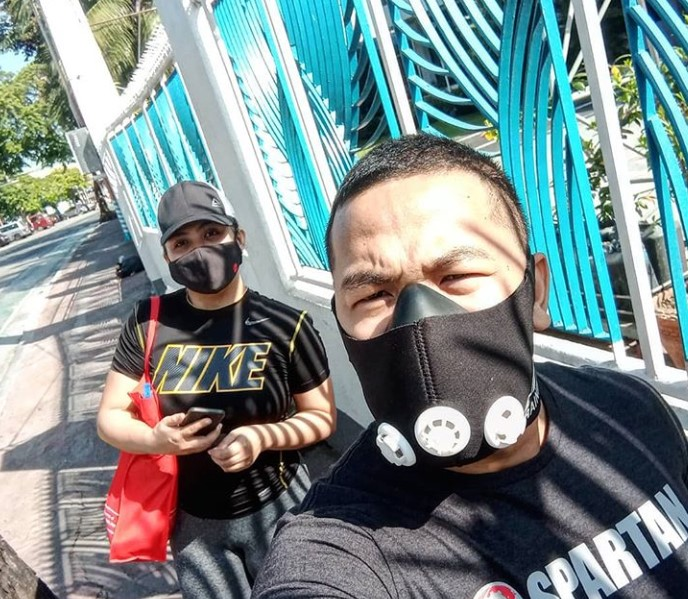face_with_mask: (323, 137, 547, 470), (155, 182, 249, 298)
